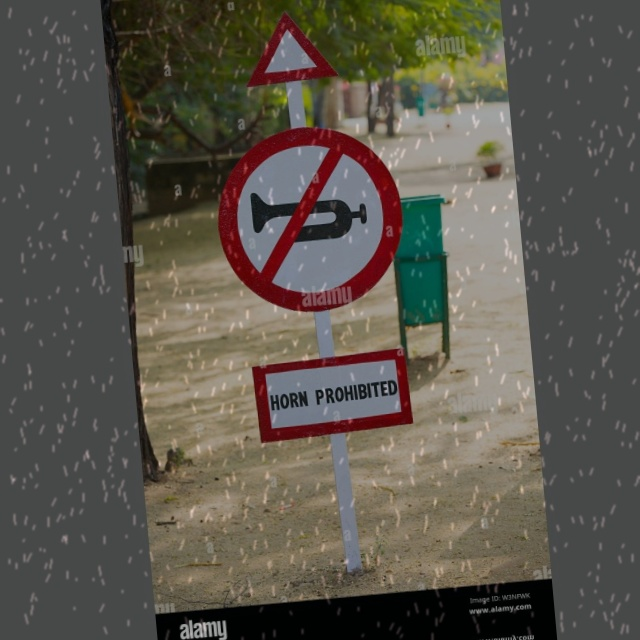Horn_Prohibited: (216, 121, 406, 321)
